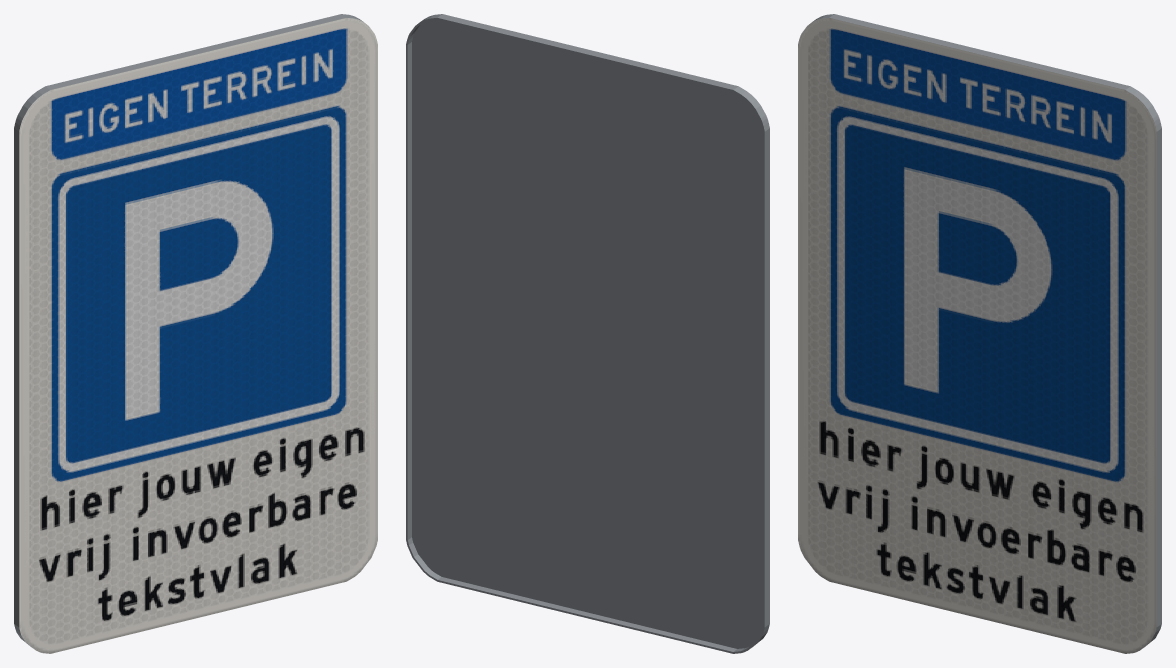
3 renders of one model, left to right at view 1: azimuth 30°, elevation 25°; view 2: azimuth 150°, elevation 25°; view 3: azimuth 330°, elevation 25°, orthographic.
Parts seen in each view (by area): view 1: cat_844cb4f9494fb3e2; view 2: cat_844cb4f9494fb3e2; view 3: cat_844cb4f9494fb3e2.
Boxes of the visible parts, x1,y1,x2,y2 form: cat_844cb4f9494fb3e2: [14, 14, 377, 653]; cat_844cb4f9494fb3e2: [406, 14, 769, 653]; cat_844cb4f9494fb3e2: [798, 14, 1161, 653].
Bounding box in the file's own units: 0.6 × 0.015 × 0.9011.
2 materials, 1 textured.
